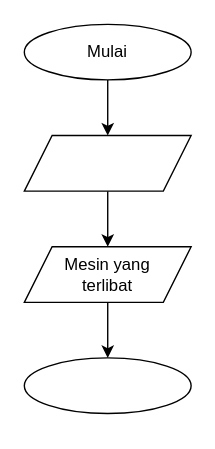
This 215x449 diagram has some shape labels left out. The centre of each missing label's shape, as x and y in pixels:
"Proses yang terlibat" belongs at point 107,162.
"Selesai" belongs at point 107,385.
